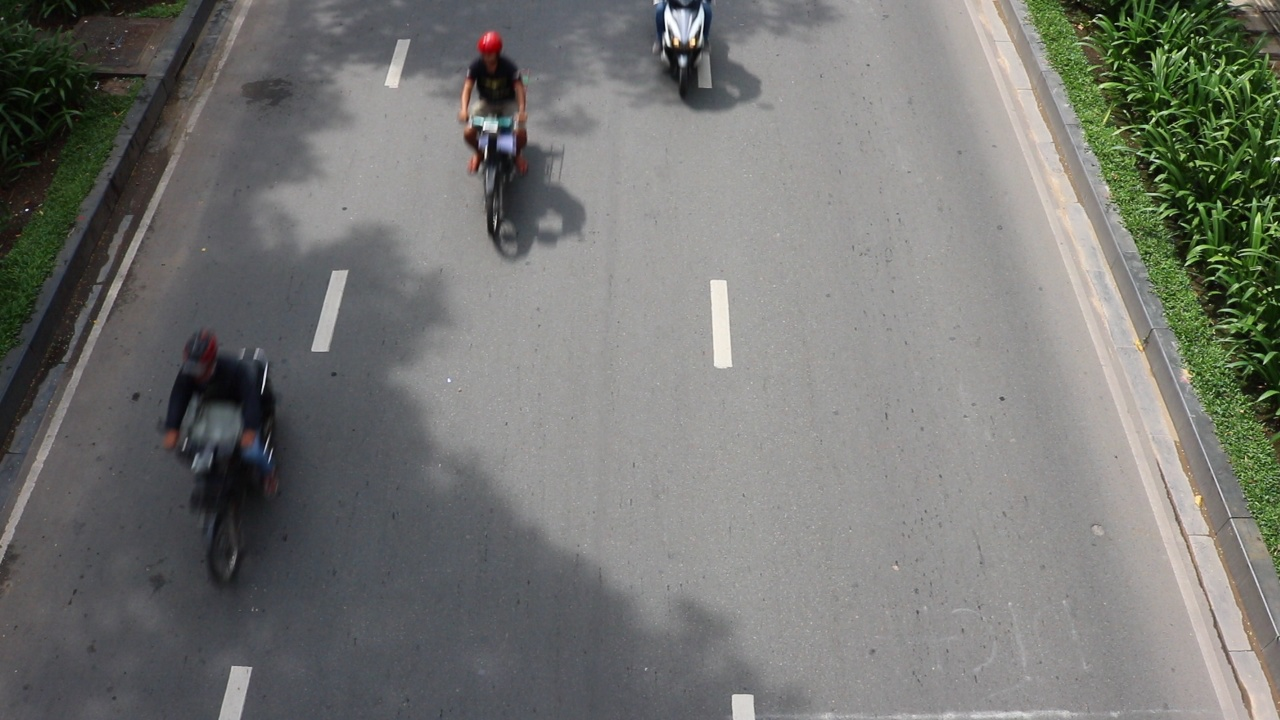motorcycle: (173, 426, 266, 586), (457, 106, 526, 239), (653, 1, 715, 97)
